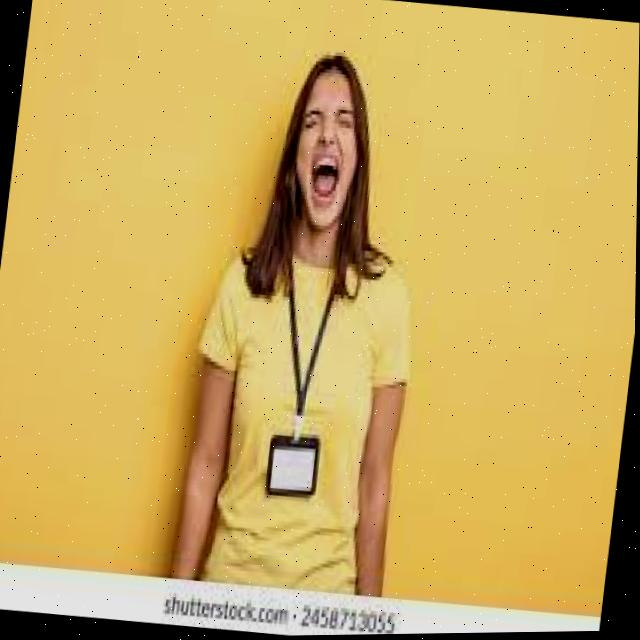id_card: (254, 250, 352, 501)
